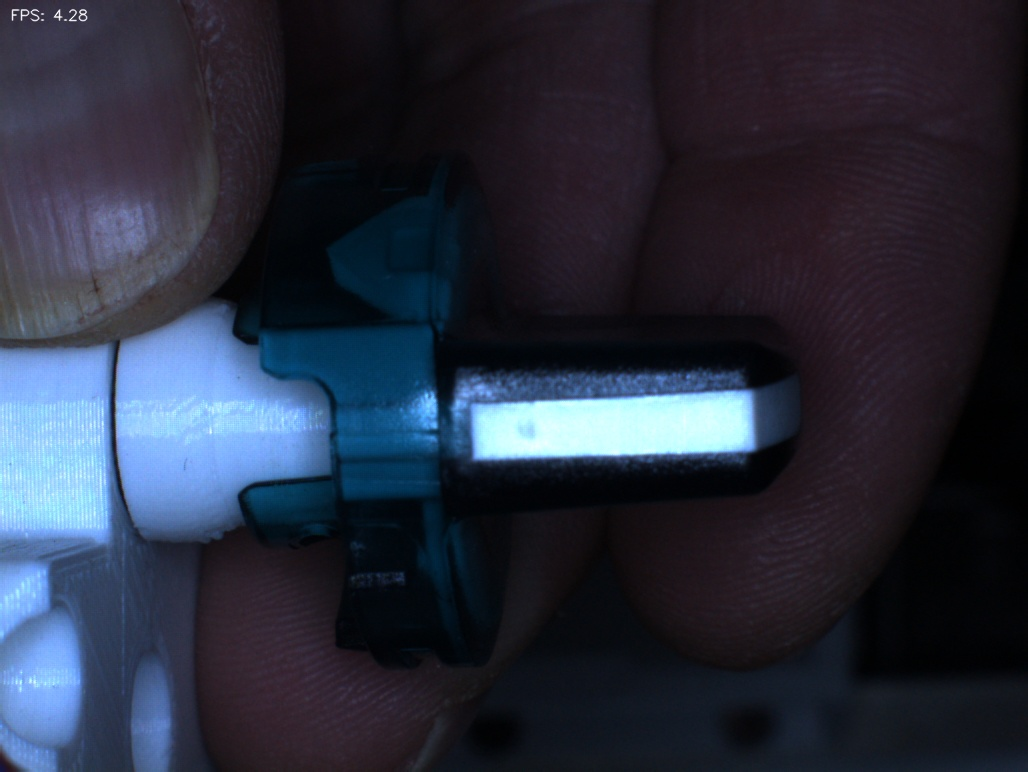DentOk: (304, 207, 370, 307)
